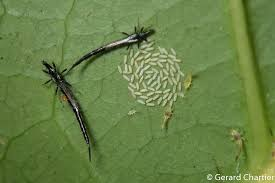Phlaeothripidae: (41, 60, 94, 161), (65, 19, 156, 76)
